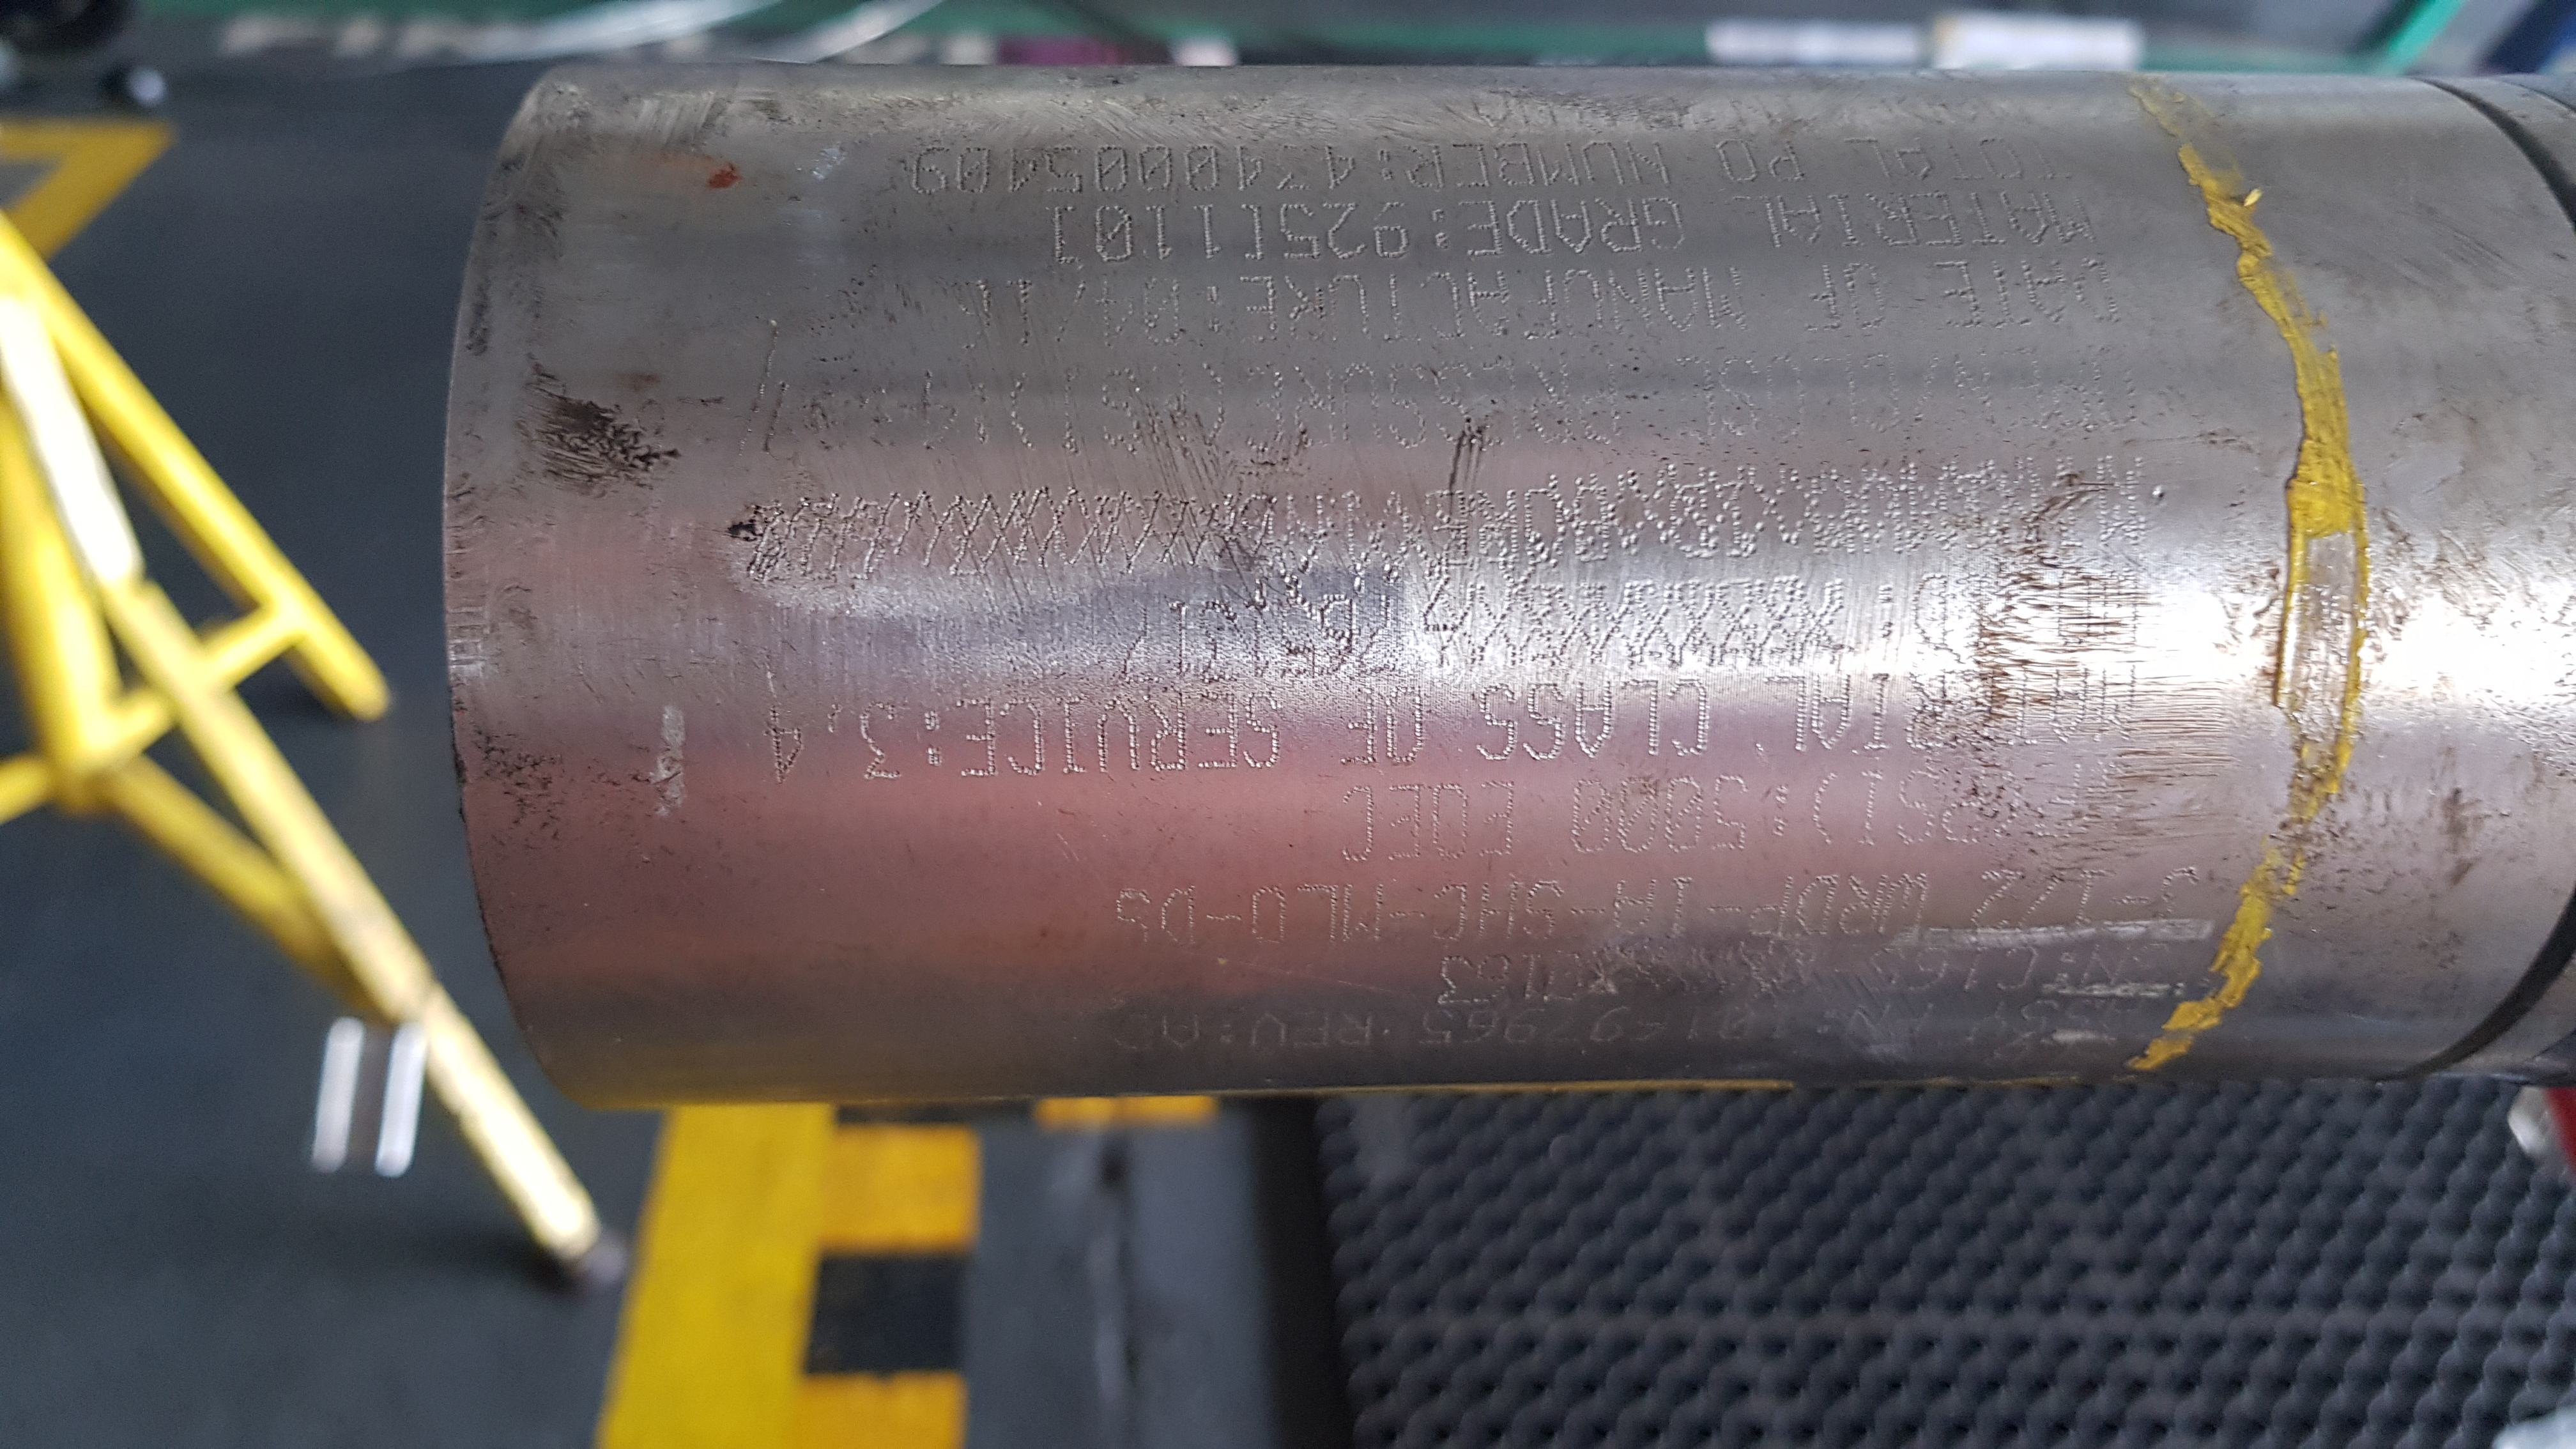character: (955, 688, 1007, 787), (853, 697, 911, 782), (759, 706, 816, 791), (950, 276, 1005, 363), (1764, 671, 1817, 757), (1274, 269, 1336, 343), (1840, 260, 1900, 336), (1470, 777, 1523, 862), (1143, 694, 1198, 775), (2015, 255, 2075, 327), (1702, 770, 1753, 855), (1798, 258, 1849, 343), (1904, 672, 1955, 755), (1092, 697, 1145, 777), (1237, 274, 1290, 354), (1569, 681, 1619, 766), (1426, 782, 1477, 863), (1999, 660, 2045, 750), (1614, 773, 1661, 860), (1568, 773, 1615, 860), (1619, 678, 1667, 764), (1194, 694, 1244, 777), (1387, 780, 1431, 872), (1810, 669, 1856, 757), (1000, 697, 1049, 778), (1978, 258, 2035, 329), (1937, 260, 1989, 338), (1516, 267, 1566, 347), (2042, 665, 2093, 741), (1461, 269, 1514, 341), (1886, 126, 1946, 189), (1667, 676, 1713, 759), (1322, 272, 1373, 347), (1661, 778, 1709, 858), (1338, 685, 1385, 764), (1417, 269, 1465, 349), (1339, 777, 1378, 874), (1647, 265, 1702, 334), (1092, 281, 1141, 357), (1384, 683, 1428, 768), (1053, 692, 1095, 780), (1603, 264, 1654, 336), (1472, 685, 1520, 763), (1557, 262, 1606, 336), (1994, 188, 2056, 246), (1246, 692, 1288, 777), (1522, 685, 1568, 763), (2095, 662, 2143, 736), (1859, 672, 1900, 757), (2040, 189, 2098, 248), (1622, 134, 1684, 189), (2075, 258, 2123, 329), (1700, 262, 1748, 333), (1909, 189, 1966, 248), (1500, 198, 1553, 260), (1318, 198, 1371, 260), (1092, 202, 1141, 267), (1005, 276, 1046, 356), (1732, 189, 1787, 248), (1589, 195, 1644, 253), (1974, 136, 2035, 189), (1458, 196, 1507, 260), (1373, 274, 1415, 349), (1274, 198, 1322, 264), (1578, 136, 1633, 191), (1867, 189, 1920, 246), (1844, 127, 1891, 189), (1141, 276, 1184, 345), (1534, 140, 1589, 193), (1638, 198, 1693, 249), (2022, 131, 2072, 188), (1044, 202, 1086, 267), (1550, 193, 1596, 253), (1776, 193, 1828, 246), (1451, 140, 1497, 198), (1044, 140, 1090, 198), (1711, 140, 1764, 189), (909, 145, 959, 198), (1238, 202, 1281, 264), (1964, 191, 2008, 249), (1493, 138, 1539, 193), (1178, 138, 1224, 193), (1136, 142, 1180, 198), (1194, 200, 1233, 264), (1766, 134, 1808, 191), (957, 140, 1000, 196), (1093, 140, 1132, 200), (1373, 198, 1410, 260), (1001, 145, 1044, 198), (1829, 191, 1865, 255), (1272, 138, 1313, 193), (1941, 138, 1985, 188), (1405, 143, 1454, 186), (1148, 200, 1182, 258), (1320, 143, 1361, 189), (1228, 143, 1267, 189)
